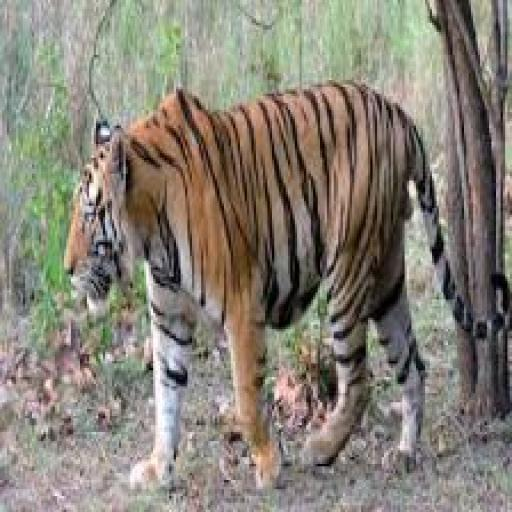Tiger: (55, 82, 512, 496)
